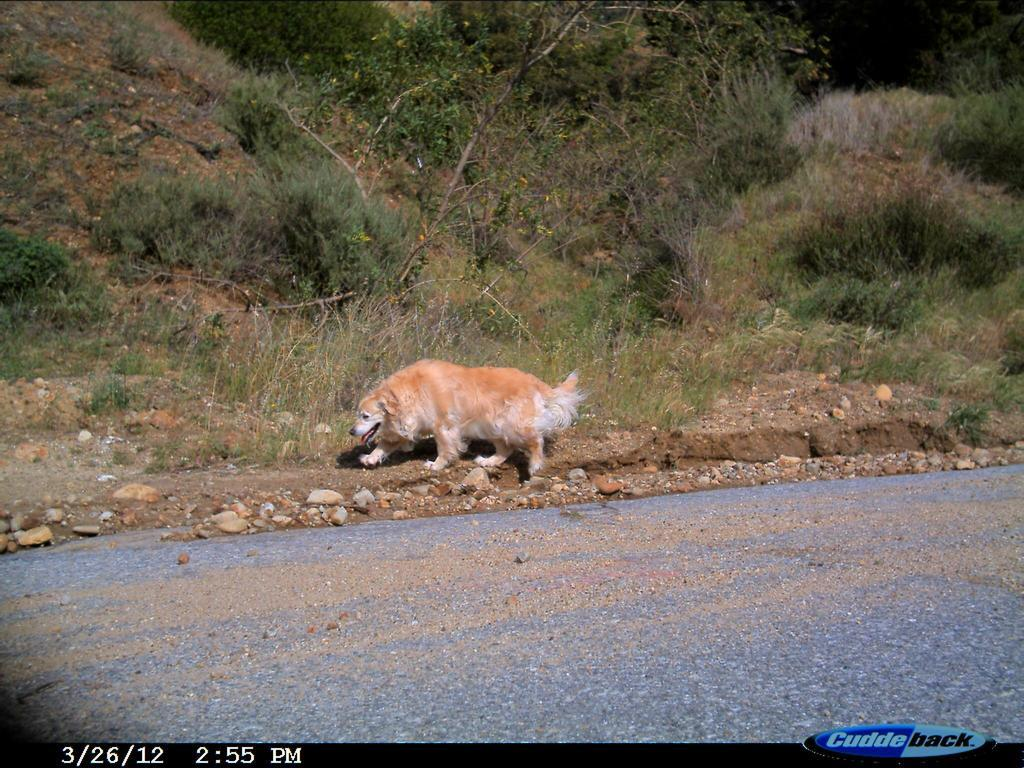dog: (341, 349, 600, 491)
